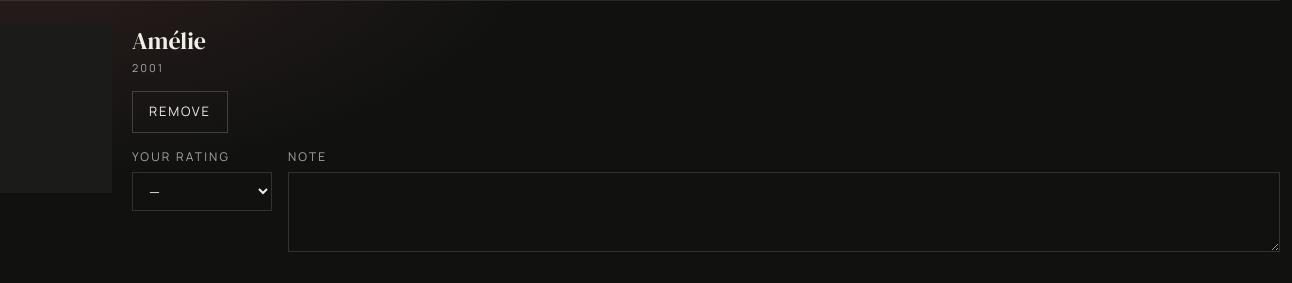
Test case: cinema store › кнопка полки убирает фильм из избранного
Click the button "Remove".
click(180, 112)  # box [132,91,228,133]
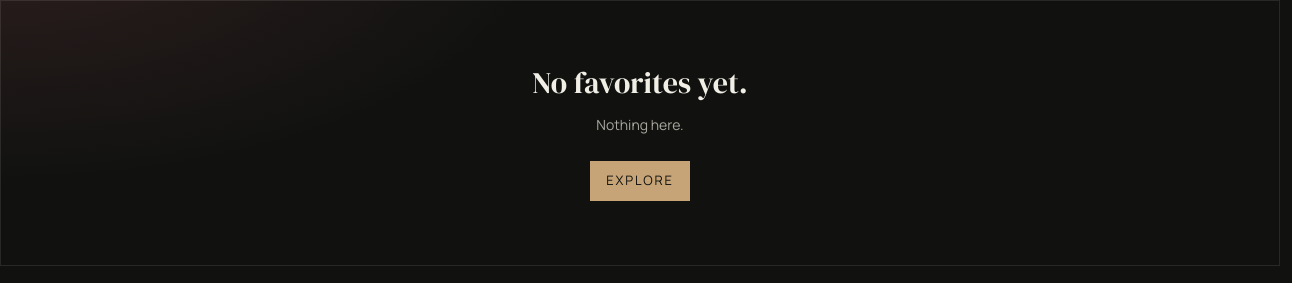
Check: the heading "No favorites yet." is shown, box [532,62,748,103]
